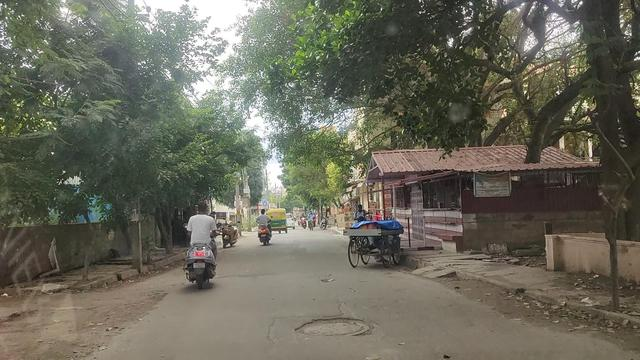LMV: (186, 195, 218, 290)
RoadDamages: (75, 310, 170, 345), (292, 314, 375, 341), (137, 276, 185, 306)
